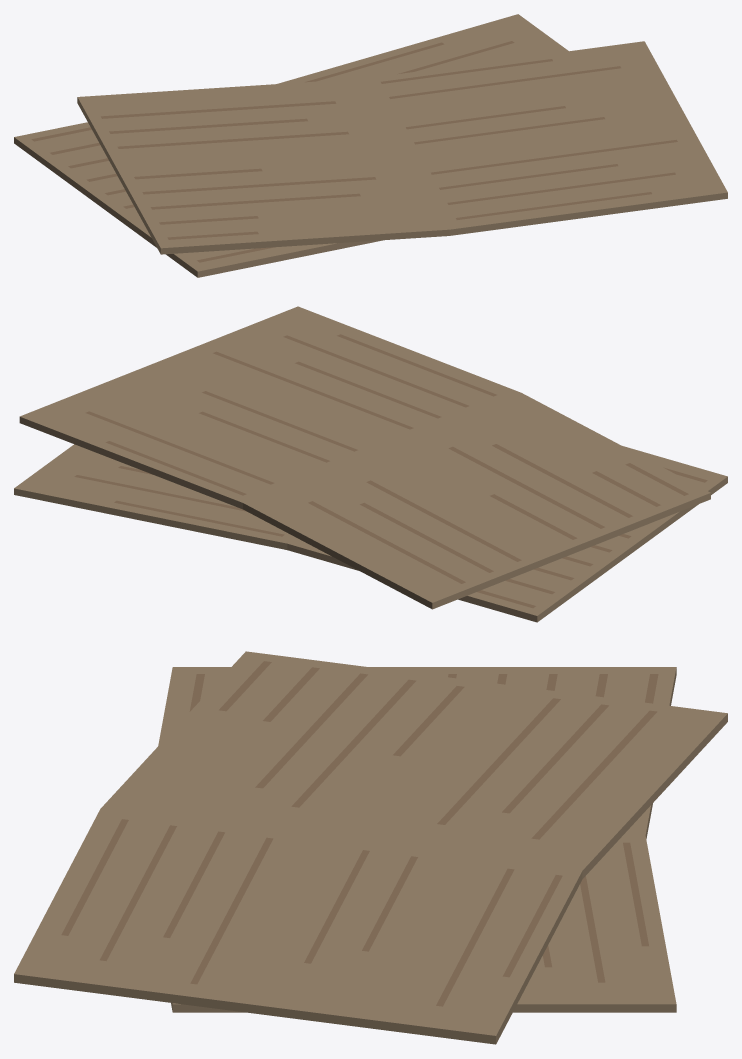
The model's file is LP_PostApoc_TatteredNewspaperA.fbx.
The picture shows the model from 3 angles, top to bottom: view 1: azimuth 30°, elevation 25°; view 2: azimuth 150°, elevation 25°; view 3: azimuth 270°, elevation 25°; orthographic projection. The views are drawn at different scales.
Visible parts, largest first — view 1: TatteredNewspaperA; view 2: TatteredNewspaperA; view 3: TatteredNewspaperA.
Part boxes in pixels (box(x1,y1,x2,y2)): TatteredNewspaperA: box(14, 14, 727, 277); TatteredNewspaperA: box(14, 306, 727, 622); TatteredNewspaperA: box(14, 651, 727, 1044).
Bounding box in the file's own units: 58.92 × 1.23 × 46.23.
